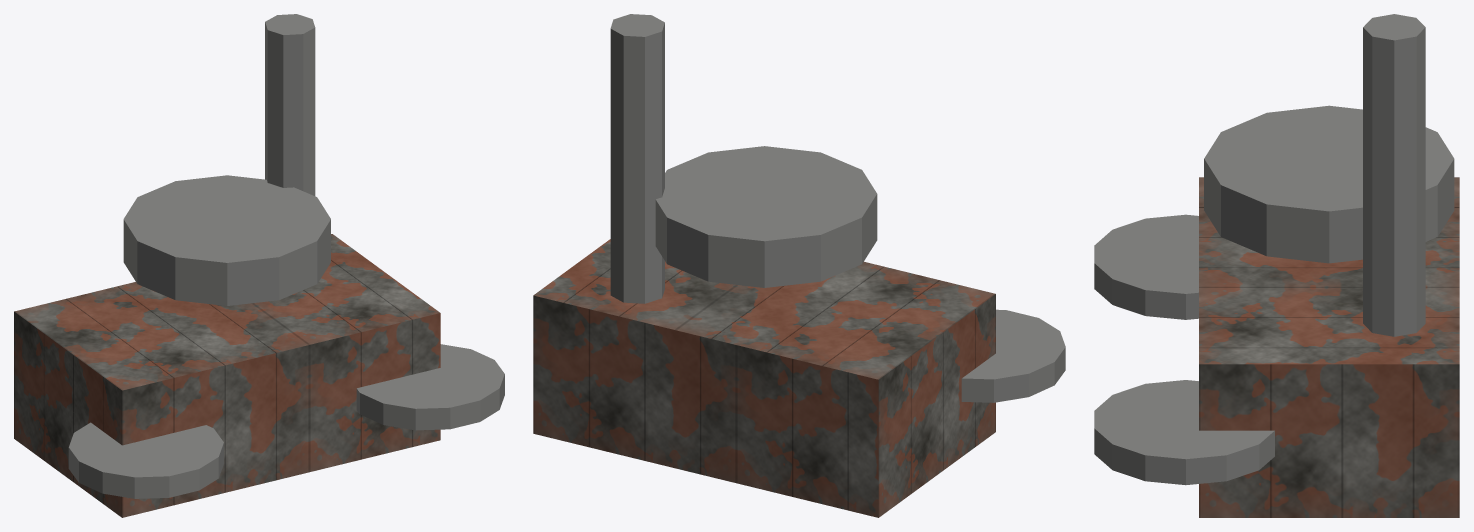
The model's file is feldkueche_feuerstelle.glb.
The picture shows the model from 3 angles, left to right: view 1: azimuth 30°, elevation 25°; view 2: azimuth 150°, elevation 25°; view 3: azimuth 270°, elevation 25°; orthographic projection. The views are drawn at different scales.
Visible parts, largest first — view 1: feldkueche_feuerstelle_000, feldkueche_feuerstelle_001, feldkueche_feuerstelle_003, feldkueche_feuerstelle_002, feldkueche_feuerstelle_004; view 2: feldkueche_feuerstelle_000, feldkueche_feuerstelle_001, feldkueche_feuerstelle_002, feldkueche_feuerstelle_003; view 3: feldkueche_feuerstelle_000, feldkueche_feuerstelle_001, feldkueche_feuerstelle_002, feldkueche_feuerstelle_004, feldkueche_feuerstelle_003.
Boxes of the visible parts, x1=… form: feldkueche_feuerstelle_000: x1=14, y1=234, x2=440, y2=517; feldkueche_feuerstelle_001: x1=123, y1=175, x2=330, y2=305; feldkueche_feuerstelle_003: x1=68, y1=422, x2=223, y2=498; feldkueche_feuerstelle_002: x1=265, y1=14, x2=315, y2=195; feldkueche_feuerstelle_004: x1=356, y1=344, x2=504, y2=430; feldkueche_feuerstelle_000: x1=533, y1=239, x2=995, y2=517; feldkueche_feuerstelle_001: x1=655, y1=146, x2=877, y2=287; feldkueche_feuerstelle_002: x1=610, y1=14, x2=664, y2=303; feldkueche_feuerstelle_003: x1=961, y1=309, x2=1065, y2=402; feldkueche_feuerstelle_000: x1=1199, y1=177, x2=1459, y2=517; feldkueche_feuerstelle_001: x1=1204, y1=105, x2=1454, y2=263; feldkueche_feuerstelle_002: x1=1363, y1=14, x2=1425, y2=336; feldkueche_feuerstelle_004: x1=1094, y1=380, x2=1274, y2=485; feldkueche_feuerstelle_003: x1=1094, y1=214, x2=1198, y2=319.
Bounding box in the file's own units: 2.22 × 1.9 × 1.4.
Materials: 1 (1 with a texture image).
